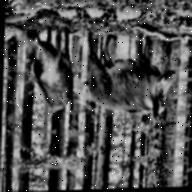boar: (82, 31, 177, 118), (22, 25, 75, 114)
